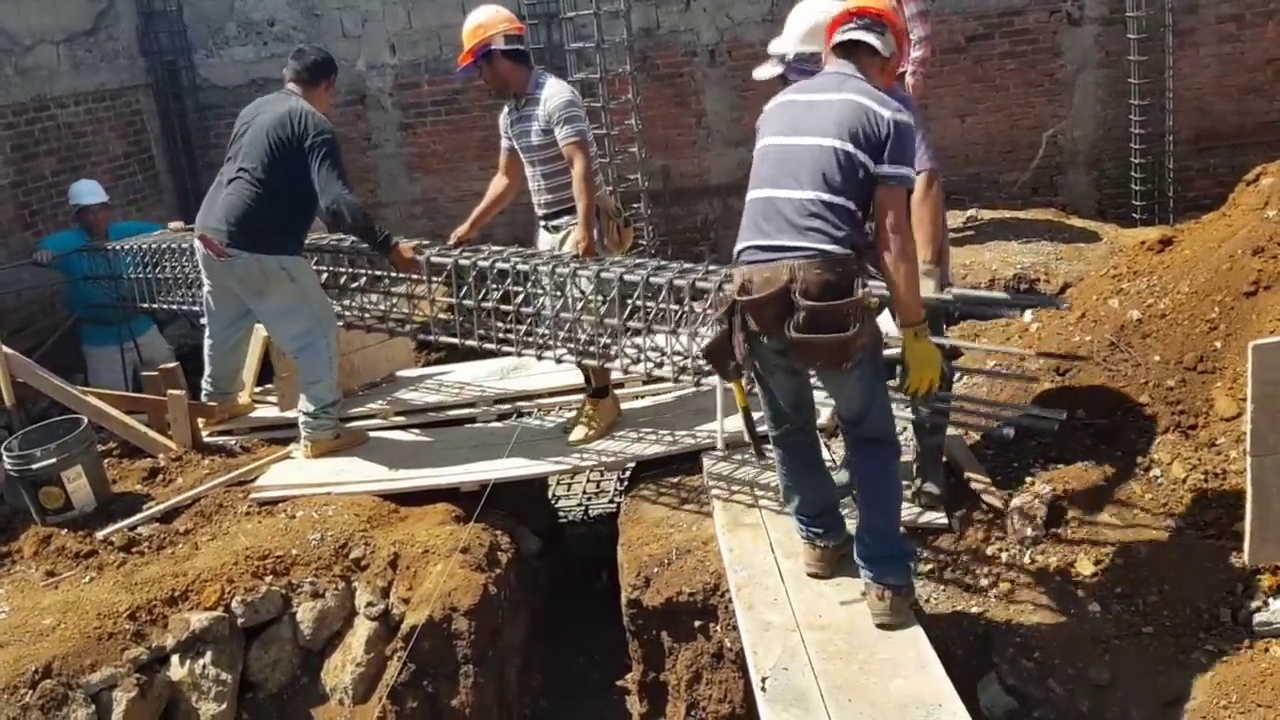helmet: (823, 1, 908, 63), (452, 3, 525, 73), (765, 0, 834, 58), (65, 175, 111, 208)
helmet-off: (278, 46, 341, 113)
helmet-on: (452, 3, 537, 102), (823, 0, 912, 93), (753, 2, 836, 85), (61, 174, 106, 239)
person: (702, 0, 972, 622), (188, 39, 366, 471), (451, 3, 626, 440), (35, 177, 161, 403)
